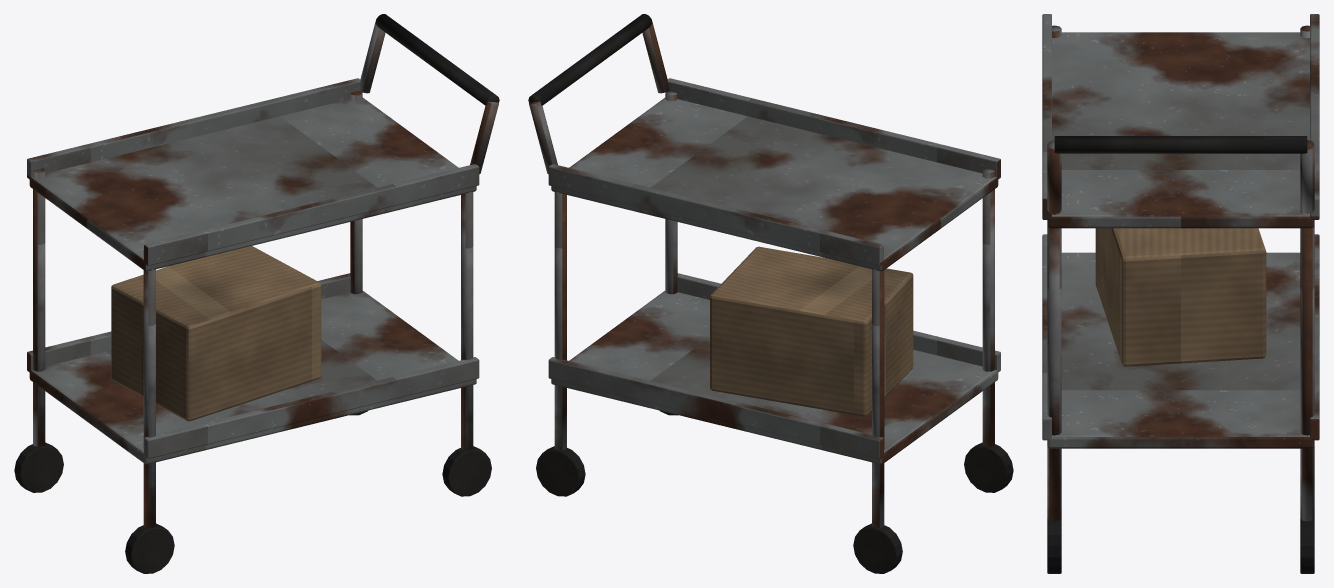
File: F39_trolley_cart.glb
3 views of the same model, side by side, from view 1: azimuth 30°, elevation 25°; view 2: azimuth 150°, elevation 25°; view 3: azimuth 270°, elevation 25° (orthographic). The views are drawn at different scales.
Visible parts, largest first — view 1: F39_trolley_cart; view 2: F39_trolley_cart; view 3: F39_trolley_cart.
Boxes of the visible parts, x1,y1,x2,y2 form: F39_trolley_cart: (14, 14, 499, 573); F39_trolley_cart: (528, 14, 1013, 573); F39_trolley_cart: (1042, 14, 1319, 573).
Bounding box in the file's own units: 0.9902 × 1 × 0.5599.
Materials: 4 (4 with a texture image).
